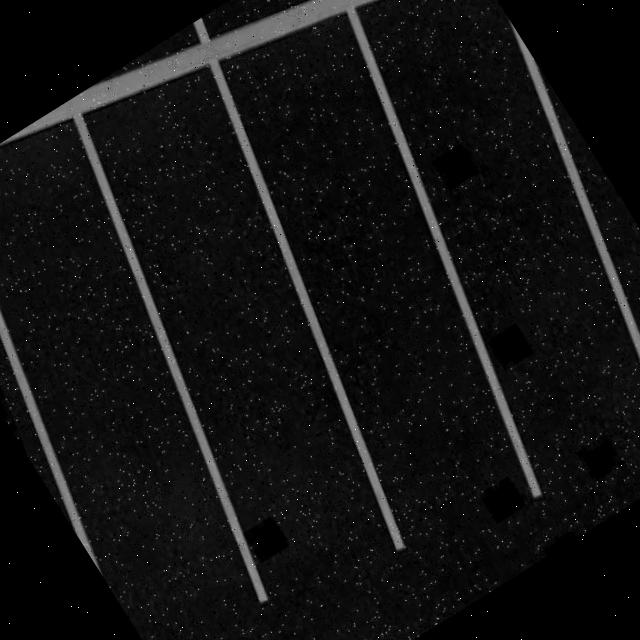Free: (116, 0, 629, 587), (0, 55, 495, 640), (259, 0, 640, 535), (0, 107, 356, 640), (422, 3, 640, 470)
